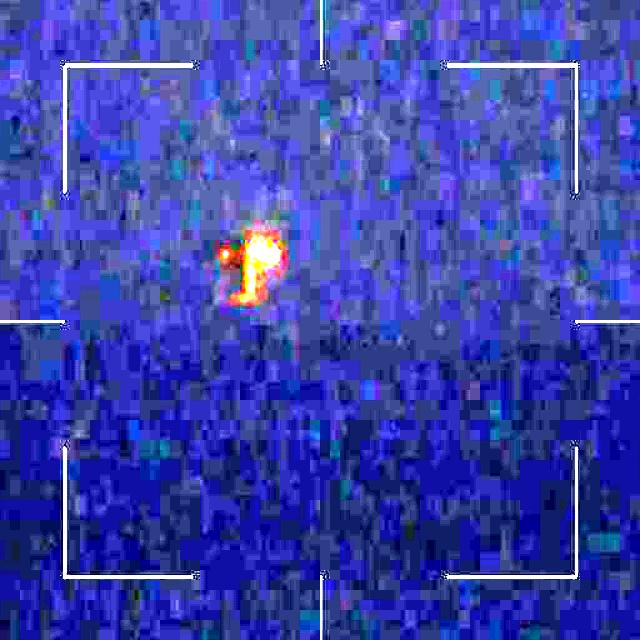bird: (205, 231, 282, 306)
